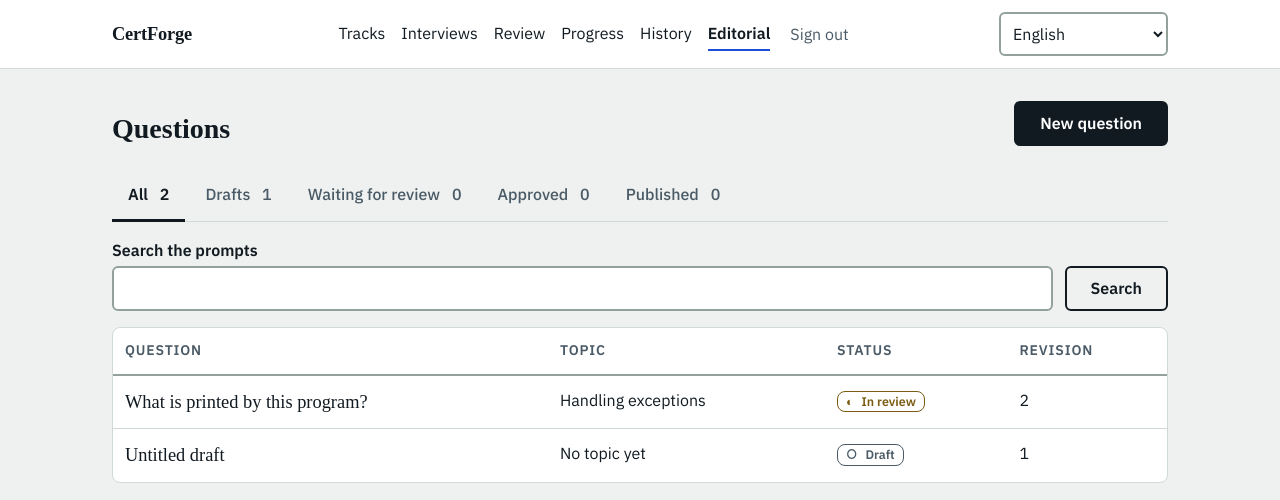
Test: the queue › asks the server to narrow, and shows counts of everything rather than of the page
The width and height of the screenshot is (1280, 500).
Click the link "Drafts 1": click(239, 194) [205,184,272,204]
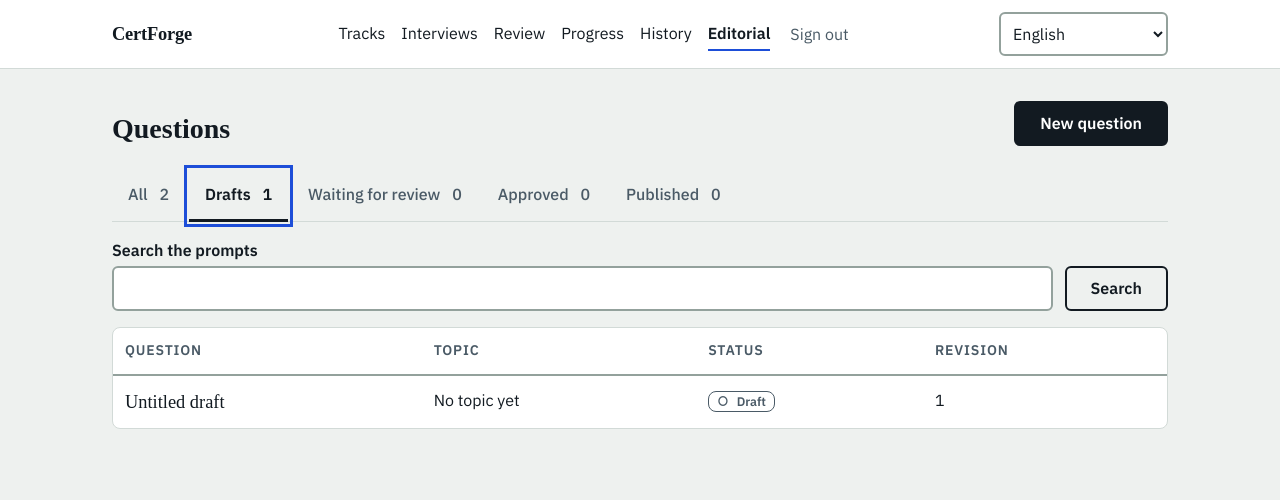
Expected: the link "Drafts 1" is shown, [189,170,288,222]
Expected: the number of rows is 2, [113,328,1167,375]; [113,376,1167,428]
